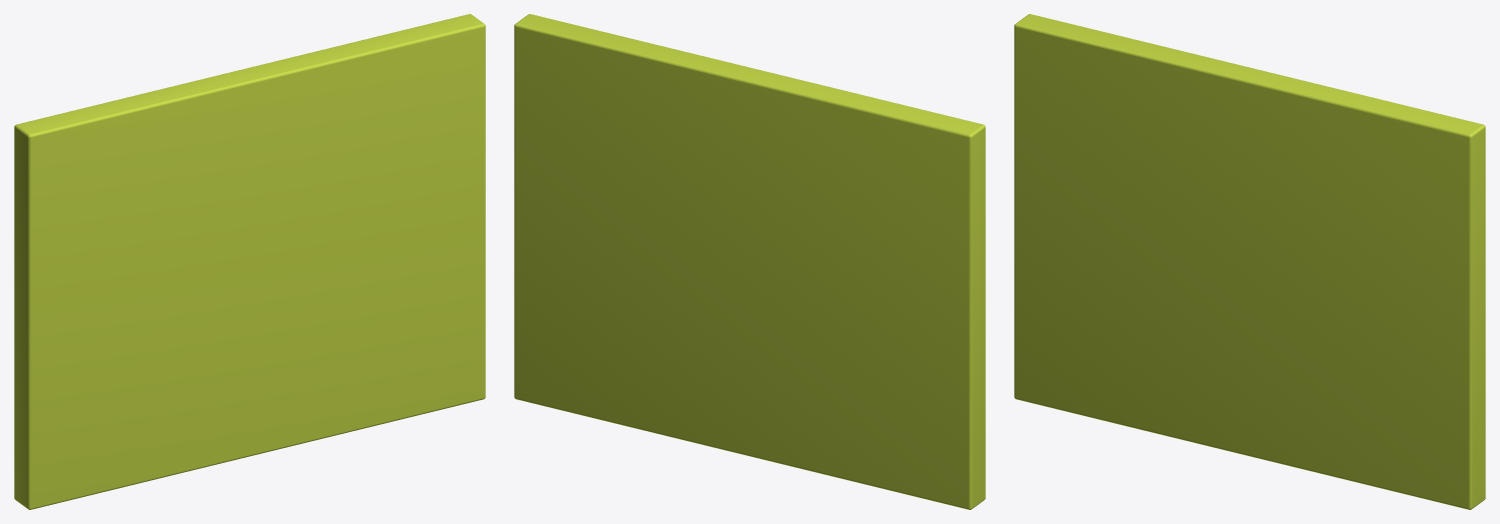
File: drawer_cover.obj
The picture shows the model from 3 angles, left to right: view 1: azimuth 30°, elevation 25°; view 2: azimuth 150°, elevation 25°; view 3: azimuth 330°, elevation 25°; orthographic projection.
Size of the model in its own units: 0.185 by 0.145 by 0.011.
Materials: 1 (1 with a texture image).
